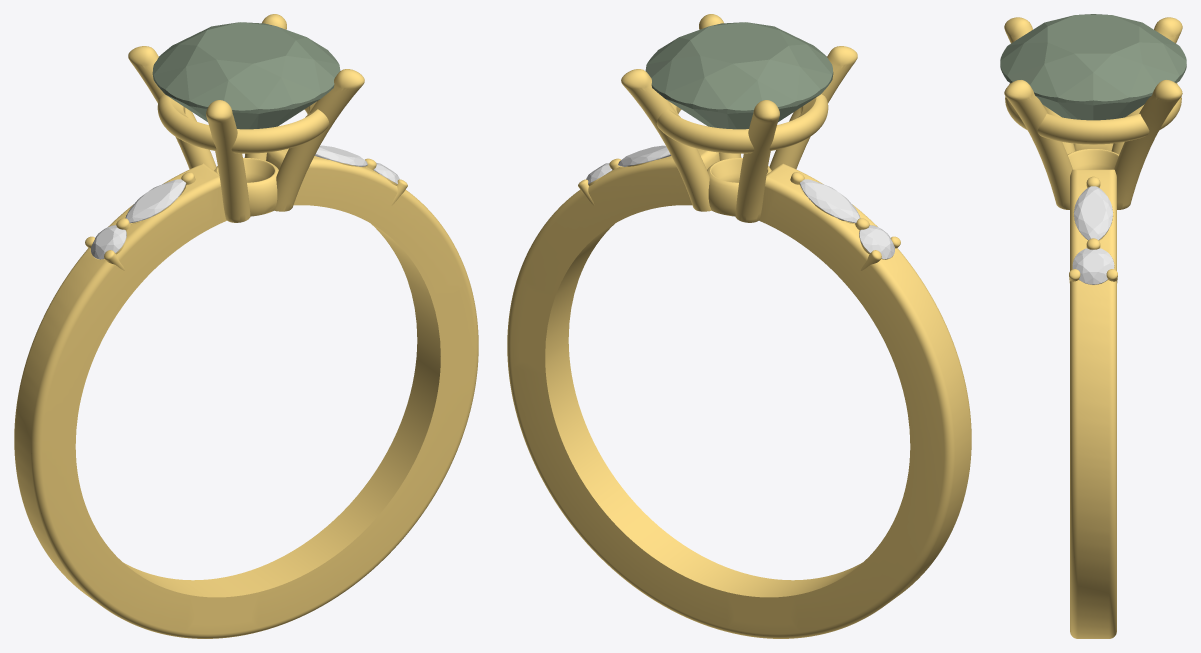
Rendered from JoeSYGtealV2.glb.
3 views of the same model, side by side, from view 1: azimuth 30°, elevation 25°; view 2: azimuth 150°, elevation 25°; view 3: azimuth 270°, elevation 25° (orthographic).
Visible parts, largest first — view 1: Joe YG for 3d model, Joe dia for 3d model, Joe side teals for 3d model; view 2: Joe YG for 3d model, Joe dia for 3d model, Joe side teals for 3d model; view 3: Joe YG for 3d model, Joe dia for 3d model, Joe side teals for 3d model.
Part boxes in pixels (x1=…): Joe YG for 3d model: x1=14, y1=14, x2=478, y2=638; Joe dia for 3d model: x1=152, y1=22, x2=340, y2=129; Joe side teals for 3d model: x1=91, y1=145, x2=399, y2=259; Joe YG for 3d model: x1=507, y1=14, x2=971, y2=638; Joe dia for 3d model: x1=645, y1=22, x2=833, y2=129; Joe side teals for 3d model: x1=586, y1=145, x2=894, y2=259; Joe YG for 3d model: x1=1004, y1=17, x2=1182, y2=638; Joe dia for 3d model: x1=1000, y1=14, x2=1186, y2=120; Joe side teals for 3d model: x1=1072, y1=186, x2=1114, y2=284.
Bounding box in the file's own units: 19.7 × 24.59 × 7.16.
